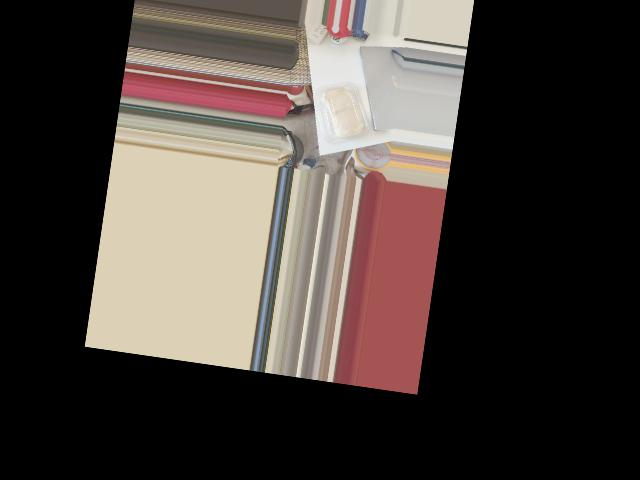cheese: (308, 75, 376, 153)
